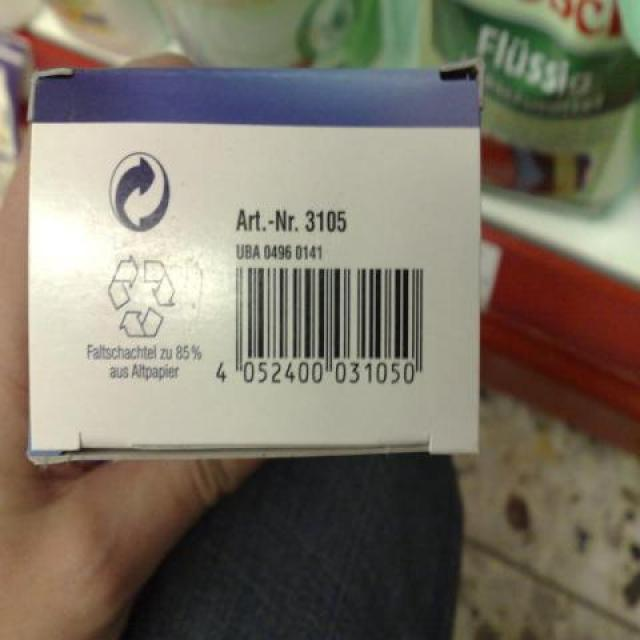Barcode: (206, 262, 434, 394)
